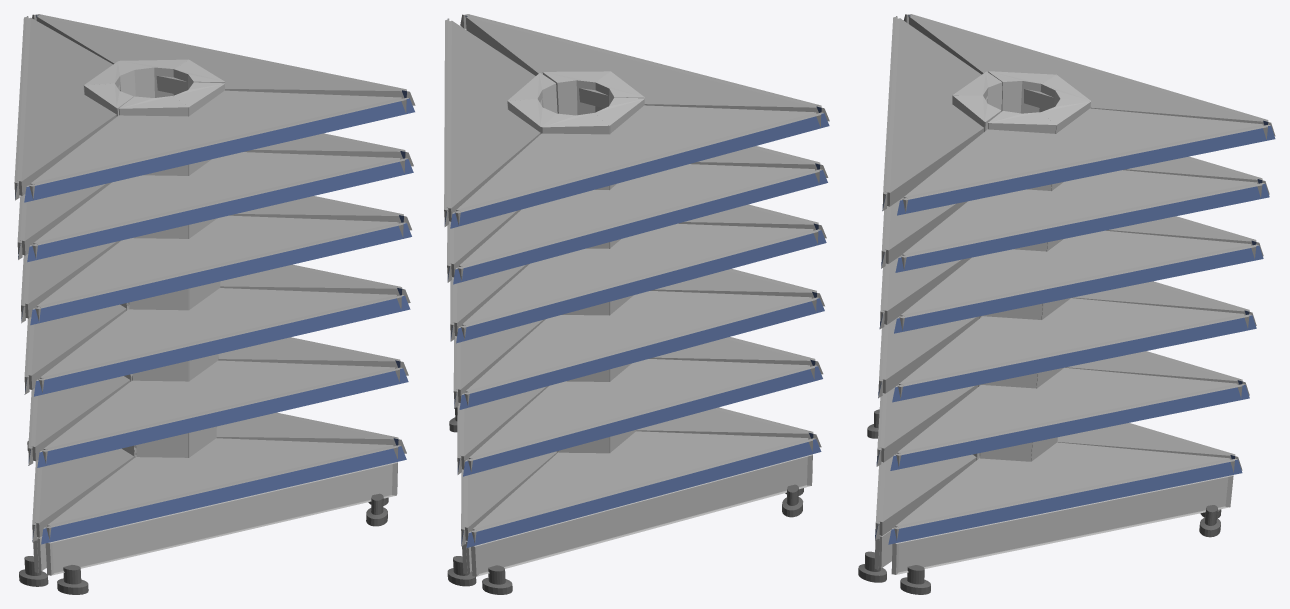
The model's file is shelf4.fbx.
The picture shows the model from 3 angles, left to right: view 1: azimuth 30°, elevation 25°; view 2: azimuth 150°, elevation 25°; view 3: azimuth 270°, elevation 25°; orthographic projection. The views are drawn at different scales.
Parts seen in each view (by area): view 1: group2, group7, group6, pCube5, pCube4, pCube16, pCube14, pCylinder1, pCylinder13, pCylinder2; view 2: group7, group6, group2, pCube15, pCube14, pCube4, pCube16, pCylinder8, pCylinder10, pCylinder13; view 3: group6, group2, group7, pCube17, pCube16, pCube14, pCube4, pCylinder9, pCylinder2.
Part boxes in pixels (x1=…): group2: x1=24, y1=90, x2=414, y2=544; group7: x1=14, y1=16, x2=134, y2=542; group6: x1=32, y1=14, x2=415, y2=453; pCube5: x1=45, y1=462, x2=397, y2=575; pCube4: x1=118, y1=82, x2=224, y2=457; pCube16: x1=119, y1=59, x2=224, y2=97; pCube14: x1=83, y1=61, x2=135, y2=457; pCylinder1: x1=57, y1=565, x2=88, y2=594; pCylinder13: x1=19, y1=556, x2=48, y2=586; pCylinder2: x1=366, y1=493, x2=387, y2=526; group7: x1=450, y1=105, x2=829, y2=547; group6: x1=444, y1=18, x2=557, y2=546; group2: x1=460, y1=14, x2=829, y2=447; pCube15: x1=471, y1=454, x2=812, y2=576; pCube14: x1=541, y1=97, x2=644, y2=453; pCube4: x1=542, y1=71, x2=644, y2=115; pCube16: x1=507, y1=73, x2=558, y2=452; pCylinder8: x1=482, y1=565, x2=512, y2=594; pCylinder10: x1=447, y1=556, x2=476, y2=586; pCylinder13: x1=782, y1=484, x2=803, y2=517; group6: x1=888, y1=108, x2=1275, y2=544; group2: x1=875, y1=16, x2=987, y2=540; group7: x1=903, y1=14, x2=1275, y2=470; pCube17: x1=891, y1=475, x2=1233, y2=574; pCube16: x1=979, y1=98, x2=1090, y2=461; pCube14: x1=988, y1=71, x2=1090, y2=113; pCube4: x1=952, y1=71, x2=1002, y2=460; pCylinder9: x1=900, y1=565, x2=930, y2=594; pCylinder2: x1=858, y1=551, x2=886, y2=582.
Bounding box in the file's own units: 1.04 × 1.08 × 0.9614.
